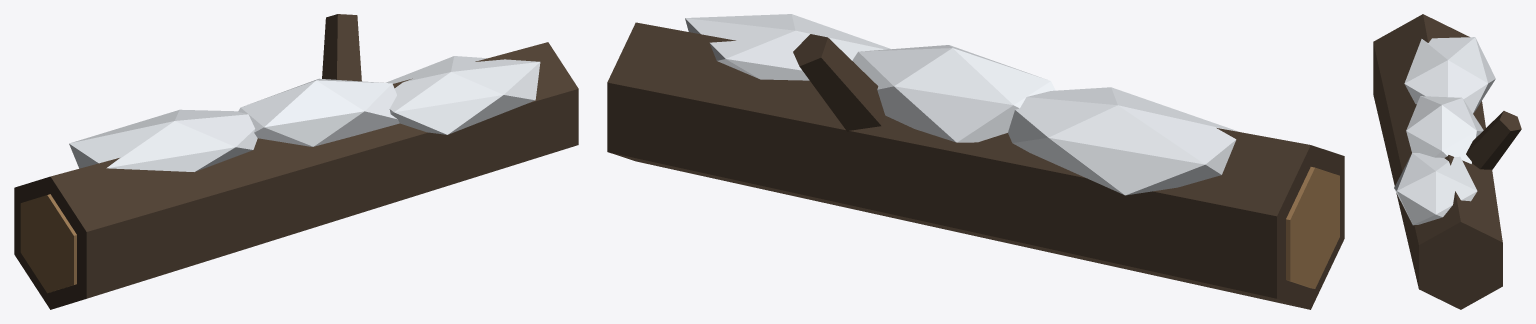
File: frozen_log.glb
3 renders of one model, left to right at view 1: azimuth 30°, elevation 25°; view 2: azimuth 150°, elevation 25°; view 3: azimuth 270°, elevation 25°, orthographic. The views are drawn at different scales.
Visible parts, largest first — view 1: frozen_log; view 2: frozen_log; view 3: frozen_log.
Part boxes in pixels (left/top/right/bottom): frozen_log: left=14, top=14, right=578, bottom=309; frozen_log: left=607, top=14, right=1344, bottom=309; frozen_log: left=1373, top=14, right=1521, bottom=309.
Size of the model in its own units: 1.59 by 0.4997 by 0.4892.
Materials: 2 (2 with a texture image).
